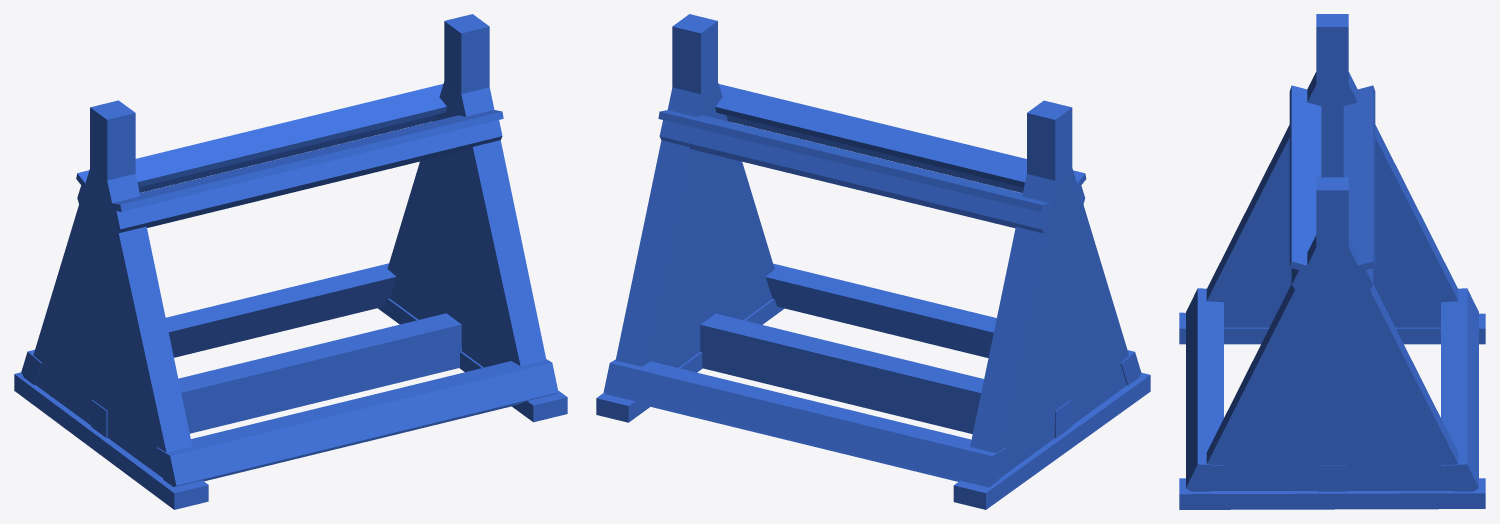
File: Collision_WeaponStand.fbx
The picture shows the model from 3 angles, left to right: view 1: azimuth 30°, elevation 25°; view 2: azimuth 150°, elevation 25°; view 3: azimuth 270°, elevation 25°; orthographic projection. The views are drawn at different scales.
Parts seen in each view (by area): view 1: UCX_WeaponStand_08, UCX_WeaponStand_07, UCX_WeaponStand_01, UCX_WeaponStand_11, UCX_WeaponStand_04, UCX_WeaponStand_06, UCX_WeaponStand_02, UCX_WeaponStand_03, UCX_WeaponStand_13, UCX_WeaponStand_10, UCX_WeaponStand_09, UCX_WeaponStand_05 (+1 smaller); view 2: UCX_WeaponStand_08, UCX_WeaponStand_07, UCX_WeaponStand_04, UCX_WeaponStand_11, UCX_WeaponStand_01, UCX_WeaponStand_03, UCX_WeaponStand_05, UCX_WeaponStand_06, UCX_WeaponStand_13, UCX_WeaponStand_10, UCX_WeaponStand_09, UCX_WeaponStand_02 (+1 smaller); view 3: UCX_WeaponStand_07, UCX_WeaponStand_08, UCX_WeaponStand_01, UCX_WeaponStand_04, UCX_WeaponStand_12, UCX_WeaponStand_06, UCX_WeaponStand_03, UCX_WeaponStand_09, UCX_WeaponStand_10, UCX_WeaponStand_13, UCX_WeaponStand_11.
Boxes of the visible parts, x1,y1,x2,y2 form: UCX_WeaponStand_08: (33,168,192,477); UCX_WeaponStand_07: (387,82,546,367); UCX_WeaponStand_01: (156,359,558,486); UCX_WeaponStand_11: (91,313,461,437); UCX_WeaponStand_04: (21,263,396,384); UCX_WeaponStand_06: (76,84,446,187); UCX_WeaponStand_02: (113,120,502,234); UCX_WeaponStand_03: (112,110,503,211); UCX_WeaponStand_13: (14,372,208,509); UCX_WeaponStand_10: (90,100,135,180); UCX_WeaponStand_09: (444,14,489,93); UCX_WeaponStand_05: (77,115,435,206); UCX_WeaponStand_08: (970,168,1128,478); UCX_WeaponStand_07: (615,82,774,367); UCX_WeaponStand_04: (603,359,1005,487); UCX_WeaponStand_11: (700,313,1071,438); UCX_WeaponStand_01: (765,263,1141,385); UCX_WeaponStand_03: (715,84,1086,187); UCX_WeaponStand_05: (659,120,1049,234); UCX_WeaponStand_06: (658,110,1050,212); UCX_WeaponStand_13: (953,372,1150,509); UCX_WeaponStand_10: (1027,100,1072,180); UCX_WeaponStand_09: (672,14,717,94); UCX_WeaponStand_02: (726,115,1085,207); UCX_WeaponStand_07: (1206,235,1458,490); UCX_WeaponStand_08: (1206,72,1458,327); UCX_WeaponStand_01: (1186,288,1223,491); UCX_WeaponStand_04: (1441,288,1478,491); UCX_WeaponStand_12: (1179,478,1485,509); UCX_WeaponStand_06: (1343,85,1375,270); UCX_WeaponStand_03: (1289,85,1321,271); UCX_WeaponStand_09: (1316,177,1348,247); UCX_WeaponStand_10: (1316,14,1348,84); UCX_WeaponStand_13: (1179,312,1485,344); UCX_WeaponStand_11: (1318,465,1346,491).
Bounding box in the file's own units: 136 × 111 × 97.3.
